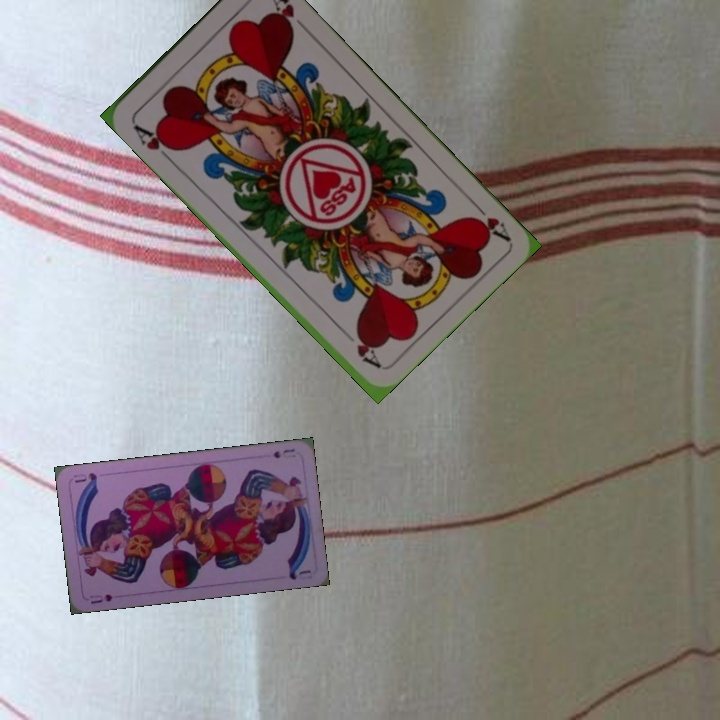HA: (128, 118, 180, 164), (466, 195, 512, 244)
SU: (86, 590, 115, 606), (269, 445, 297, 461)
